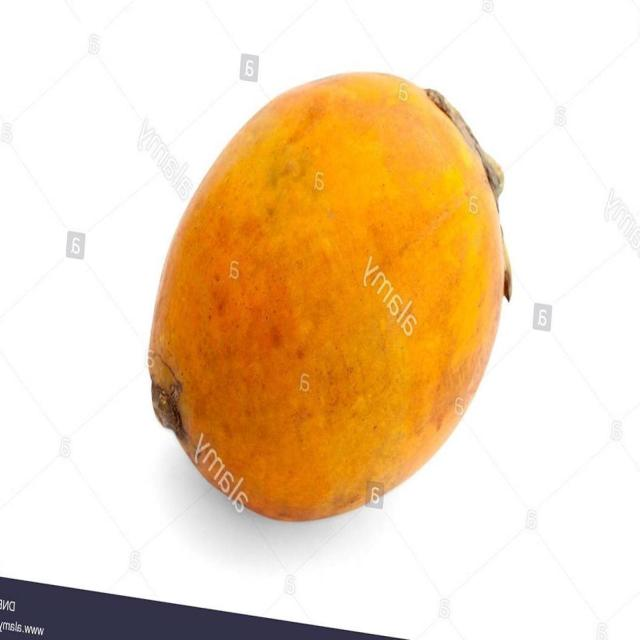good: (146, 73, 511, 524)
